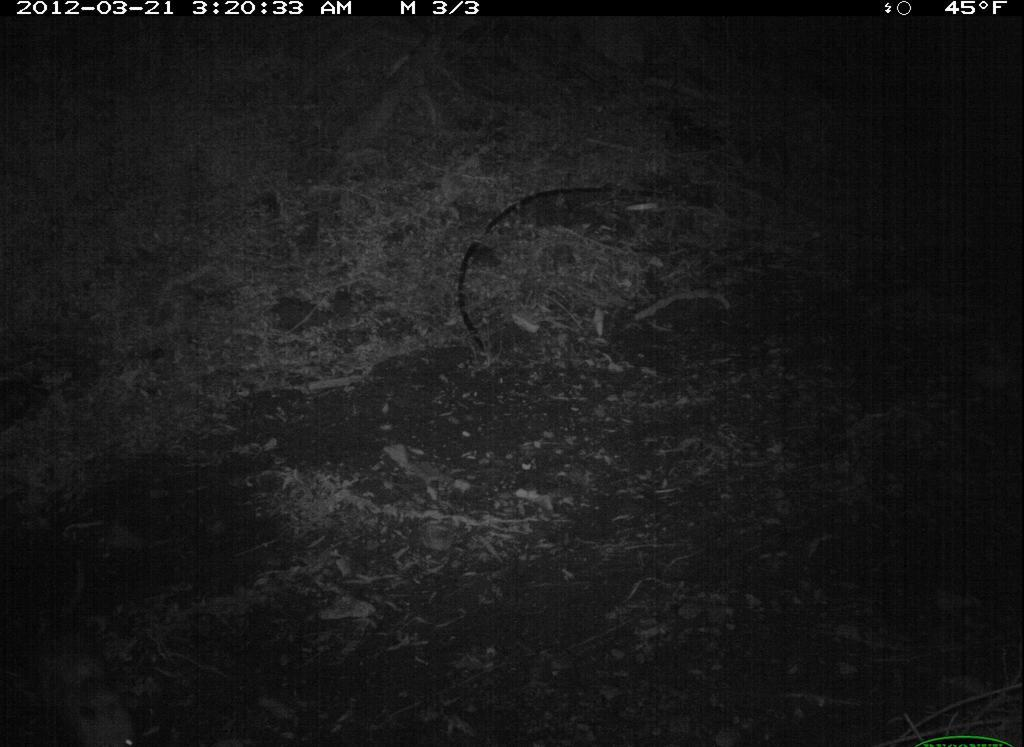opossum: (20, 552, 145, 747)
